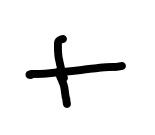plus: (25, 35, 126, 108)
